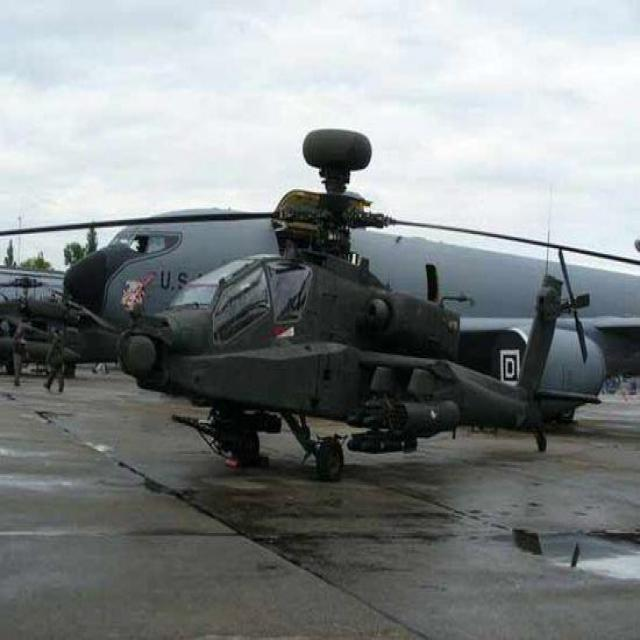MIL_HELO: (18, 119, 612, 486)
